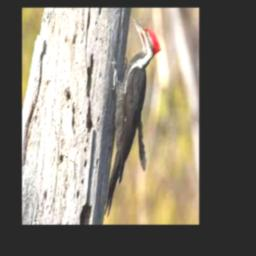Woodpecker: (104, 16, 161, 216)
